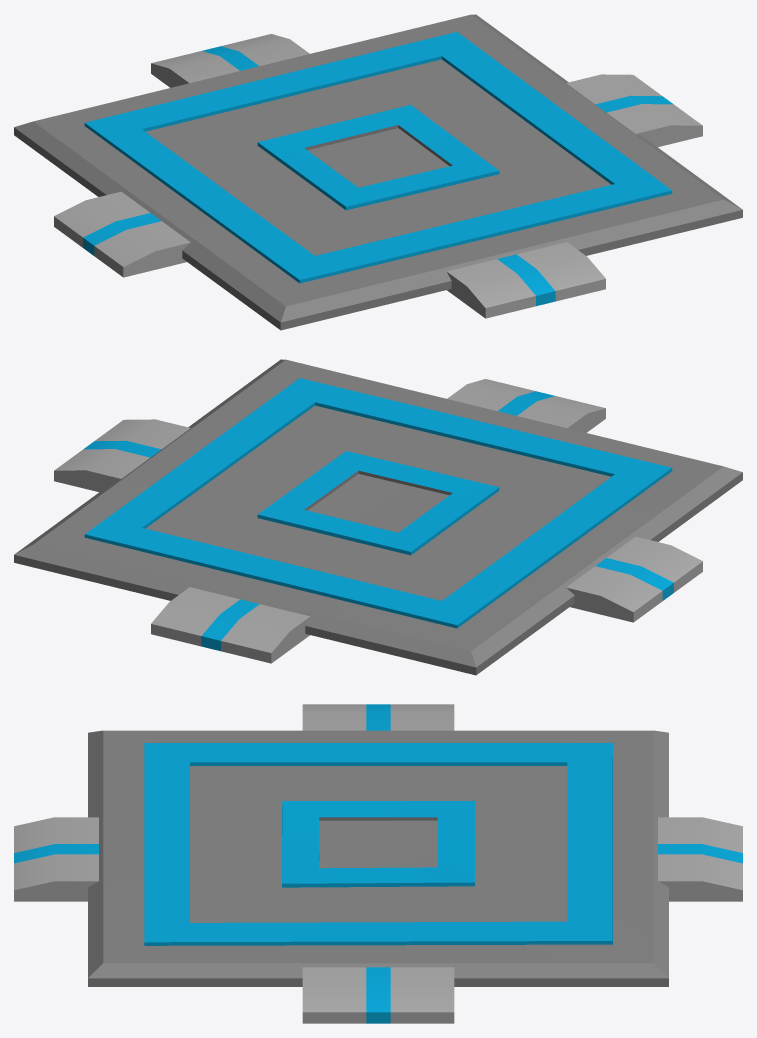
File: pade_bleu.fbx
3 views of the same model, one above another, from view 1: azimuth 30°, elevation 25°; view 2: azimuth 150°, elevation 25°; view 3: azimuth 270°, elevation 25° (orthographic). The views are drawn at different scales.
Visible parts, largest first — view 1: pCube6; view 2: pCube6; view 3: pCube6.
Part boxes in pixels (left/top/right/bottom): pCube6: left=14, top=14, right=742, bottom=330; pCube6: left=14, top=359, right=742, bottom=675; pCube6: left=14, top=704, right=742, bottom=1023.
Size of the model in its own units: 0.1462 by 0.00617 by 0.1462.
